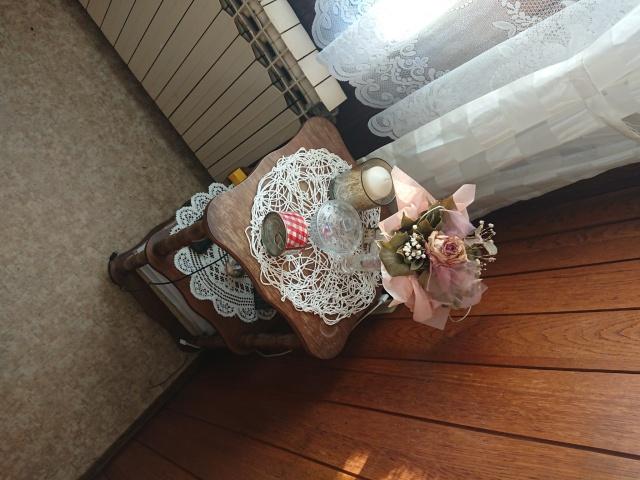Podravka Luncheon Meat 150g: (260, 209, 310, 259)
